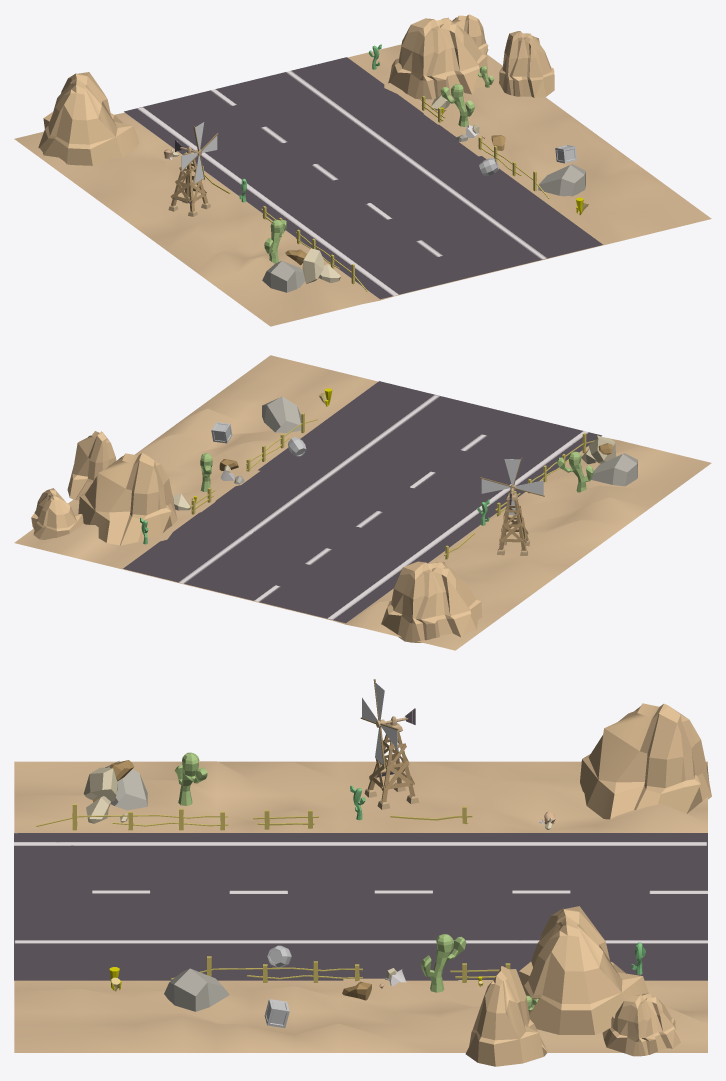
Rendered from moitruong.fbx.
The picture shows the model from 3 angles, top to bottom: view 1: azimuth 30°, elevation 25°; view 2: azimuth 150°, elevation 25°; view 3: azimuth 270°, elevation 25°; orthographic projection. The views are drawn at different scales.
Parts seen in each view (by area): view 1: road, desert, pCube4, Mountain, pCube3, rock_1, polySurface209, polySurface156, cactus_5, pCube2, cactus_1; view 2: road, desert, Mountain, pCube4, polySurface209, pCube3, rock_1, pCube2, polySurface156, cactus_1; view 3: road, desert, pCube4, Mountain, pCube3, pCube2, polySurface209, rock_1, polySurface156, cactus_5, hangrao_4, cactus_1 (+1 smaller).
Boxes of the visible parts, x1,y1,x2,y2 form: road: (124, 57, 602, 299); desert: (14, 44, 711, 326); pCube4: (38, 72, 139, 165); Mountain: (388, 17, 487, 99); pCube3: (499, 31, 554, 97); rock_1: (262, 248, 340, 292); polySurface209: (168, 122, 218, 216); polySurface156: (538, 164, 585, 196); cactus_5: (440, 84, 475, 126); pCube2: (452, 14, 488, 54); cactus_1: (264, 219, 286, 263); road: (123, 381, 602, 623); desert: (14, 355, 711, 650); Mountain: (78, 453, 177, 545); pCube4: (381, 561, 482, 642); polySurface209: (480, 457, 544, 555); pCube3: (67, 431, 116, 500); rock_1: (581, 435, 637, 486); pCube2: (31, 488, 83, 539); polySurface156: (262, 396, 301, 432); cactus_1: (557, 451, 593, 492); road: (14, 833, 707, 980); desert: (14, 761, 707, 1052); pCube4: (580, 703, 711, 819); Mountain: (519, 906, 648, 1034); pCube3: (465, 966, 547, 1066); pCube2: (602, 993, 680, 1056); polySurface209: (360, 679, 419, 809); rock_1: (83, 760, 147, 823); polySurface156: (164, 968, 229, 1011); cactus_5: (421, 934, 466, 992); hangrao_4: (36, 803, 228, 830); cactus_1: (174, 752, 207, 805).
Bounding box in the file's own units: 41.52 × 8.33 × 40.22.
